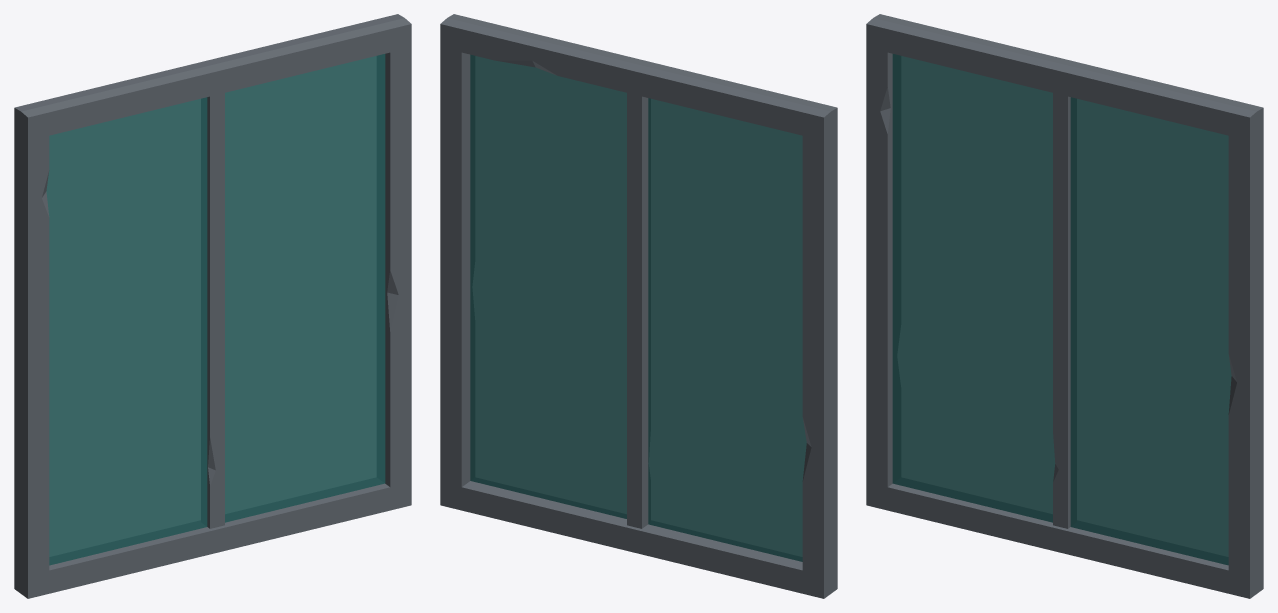
The model's file is Wall_Glass.FBX.
The picture shows the model from 3 angles, left to right: view 1: azimuth 30°, elevation 25°; view 2: azimuth 150°, elevation 25°; view 3: azimuth 330°, elevation 25°; orthographic projection.
Visible parts, largest first — view 1: Glass, Wall_Glass; view 2: Glass, Wall_Glass; view 3: Glass, Wall_Glass.
Part boxes in pixels (box(x1,y1,x2,y2)): Glass: box(46, 54, 385, 565); Wall_Glass: box(14, 14, 411, 598); Glass: box(470, 54, 806, 561); Wall_Glass: box(440, 14, 837, 598); Glass: box(892, 54, 1231, 565); Wall_Glass: box(866, 14, 1263, 598).
Size of the model in its own units: 250 by 300 by 15.39.
